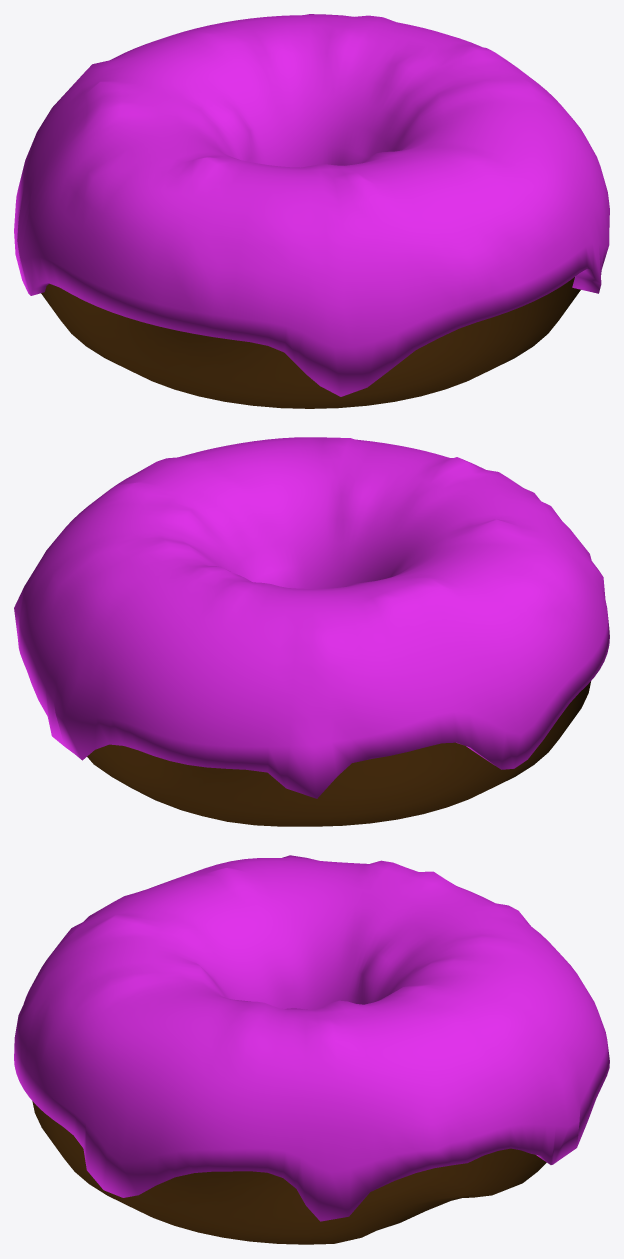
Rendered from donut.glb.
3 views of the same model, one above another, from view 1: azimuth 30°, elevation 25°; view 2: azimuth 150°, elevation 25°; view 3: azimuth 270°, elevation 25° (orthographic). The views are drawn at different scales.
Parts seen in each view (by area): view 1: Icing, Donut; view 2: Icing, Donut; view 3: Icing, Donut.
Boxes of the visible parts, left/top/right/bottom form: Icing: left=14, top=14, right=609, bottom=396; Donut: left=41, top=277, right=581, bottom=408; Icing: left=14, top=437, right=609, bottom=798; Donut: left=87, top=681, right=590, bottom=826; Icing: left=14, top=855, right=609, bottom=1221; Donut: left=32, top=1101, right=546, bottom=1244.
Size of what is drawn, in the model's own units: 0.1029 by 0.0439 by 0.1058.
